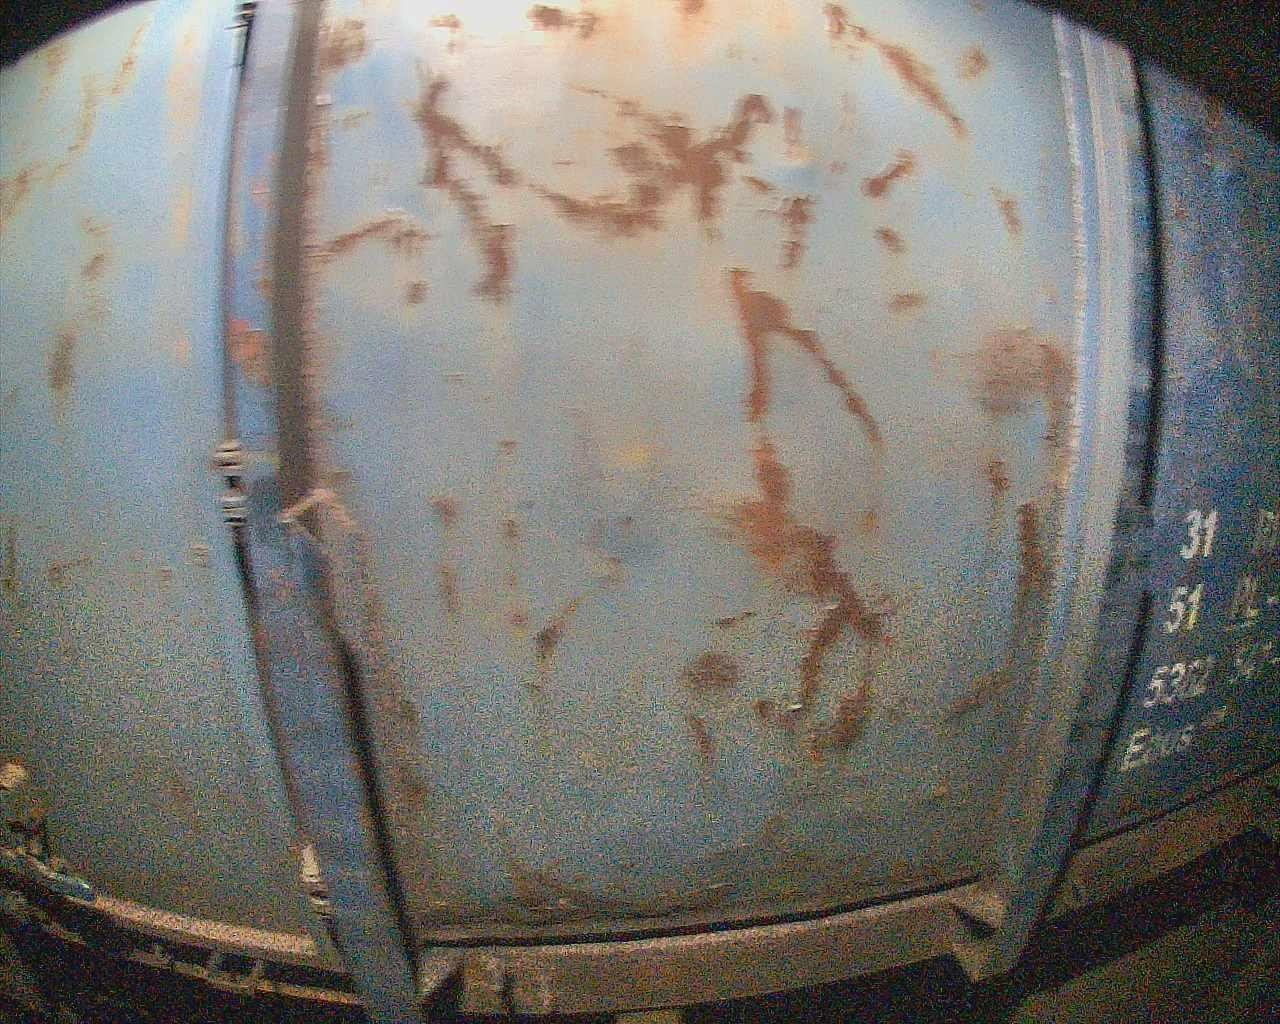UIC: (1117, 505, 1280, 779)
